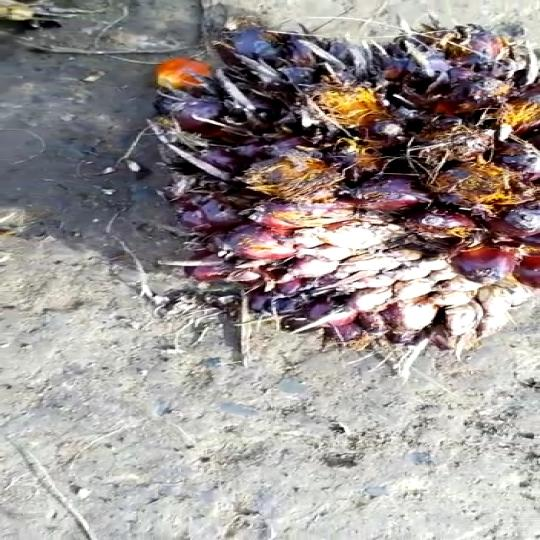masak: (108, 17, 540, 371)
